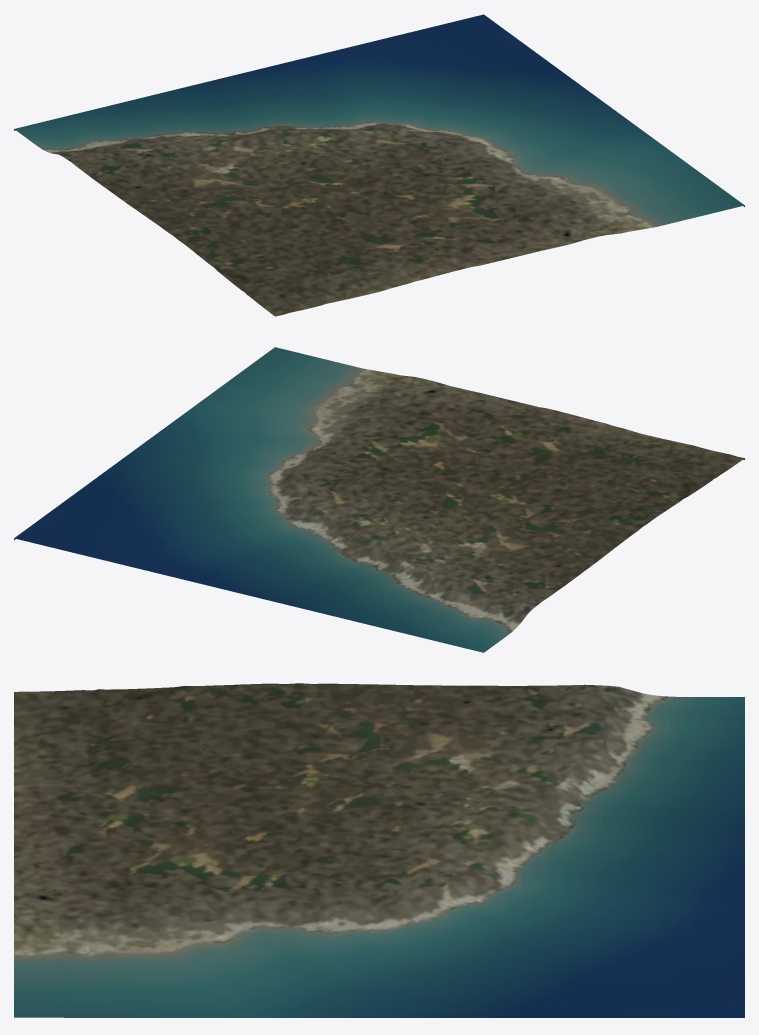
3 renders of one model, top to bottom at view 1: azimuth 30°, elevation 25°; view 2: azimuth 150°, elevation 25°; view 3: azimuth 270°, elevation 25°, orthographic. The views are drawn at different scales.
Bounding box in the file's own units: 250 × 5.99 × 241.
Materials: 1 (1 with a texture image).
